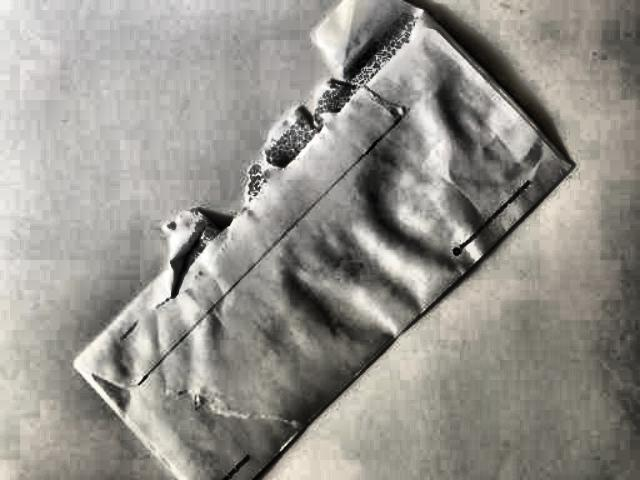Paper: (53, 0, 582, 480)
